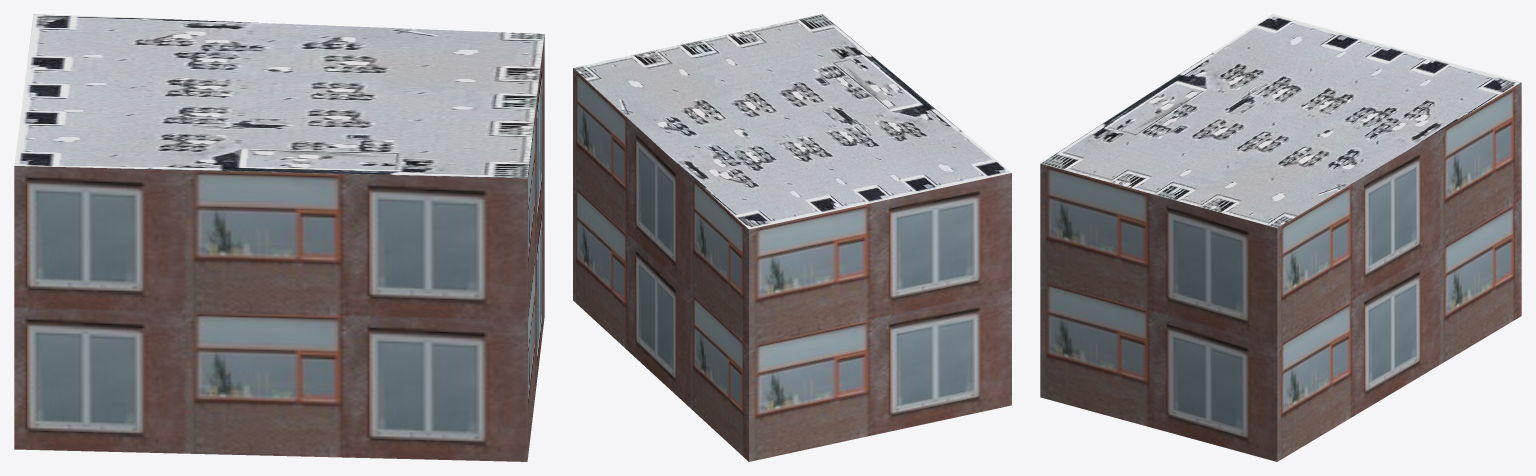
File: ResTex__898.fbx
The picture shows the model from 3 angles, left to right: view 1: azimuth 30°, elevation 25°; view 2: azimuth 150°, elevation 25°; view 3: azimuth 270°, elevation 25°; orthographic projection. The views are drawn at different scales.
Parts seen in each view (by area): view 1: CityEngineMaterial_19_m, CityEngineMaterial_15_m; view 2: CityEngineMaterial_19_m, CityEngineMaterial_15_m; view 3: CityEngineMaterial_19_m, CityEngineMaterial_15_m.
Boxes of the visible parts, x1,y1,x2,y2 form: CityEngineMaterial_19_m: (14, 34, 544, 461); CityEngineMaterial_15_m: (14, 14, 544, 178); CityEngineMaterial_19_m: (573, 68, 1011, 461); CityEngineMaterial_15_m: (573, 14, 1011, 229); CityEngineMaterial_19_m: (1040, 82, 1521, 461); CityEngineMaterial_15_m: (1041, 14, 1520, 227).
Bounding box in the file's own units: 11.79 × 6 × 11.19.
Materials: 2 (2 with a texture image).
